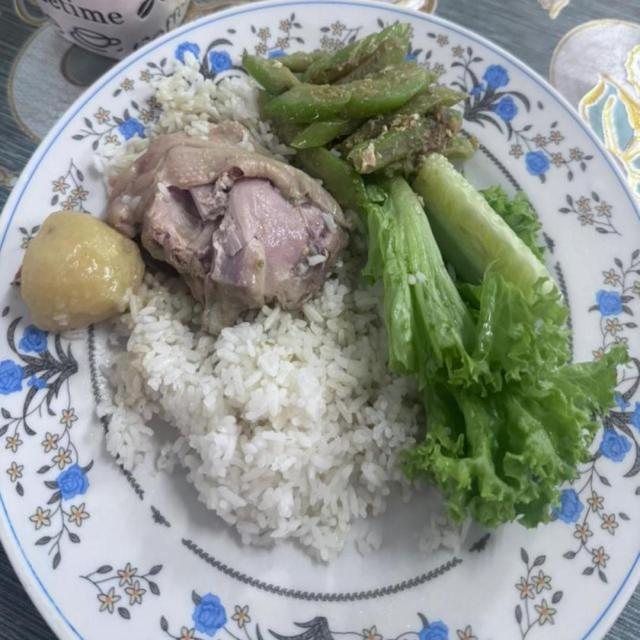Chicken: (101, 123, 350, 322)
Plate: (0, 438, 517, 639)
Rice: (124, 274, 409, 555)
Vegetables: (251, 33, 619, 525), (13, 209, 143, 341)
